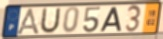0: (60, 6, 82, 35)
3: (124, 4, 142, 34)
5: (82, 6, 102, 34)
A: (15, 7, 41, 36), (99, 6, 123, 33)
U: (38, 6, 62, 35)
